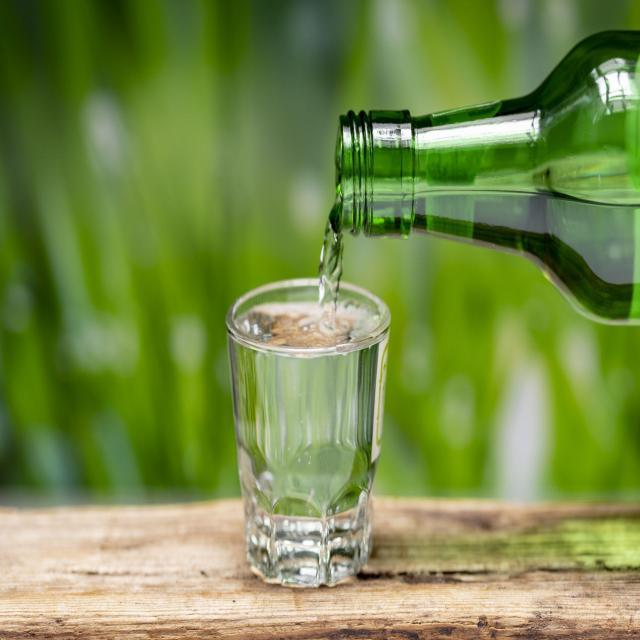soju-bottle: (337, 42, 640, 329)
